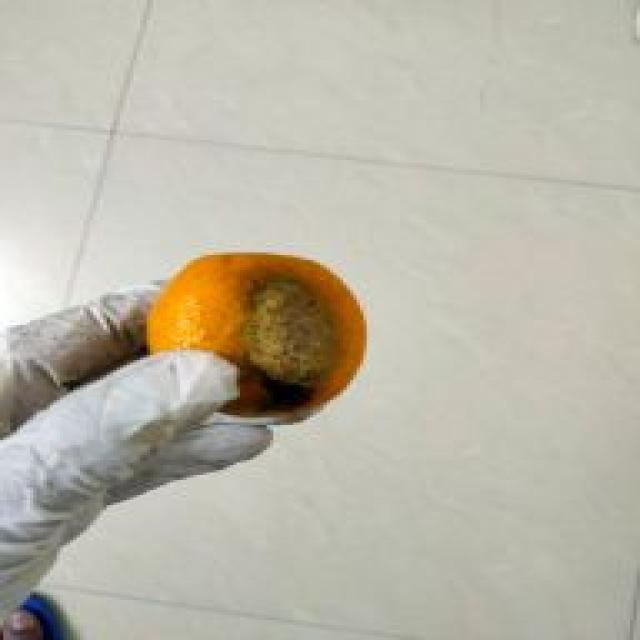Bad_Orange: (148, 255, 358, 419)
